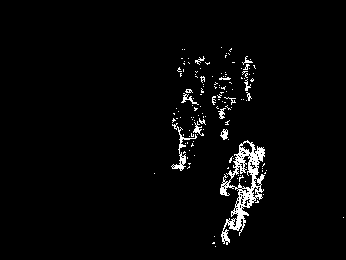person: (168, 87, 207, 172), (212, 69, 236, 140), (241, 54, 257, 102)
